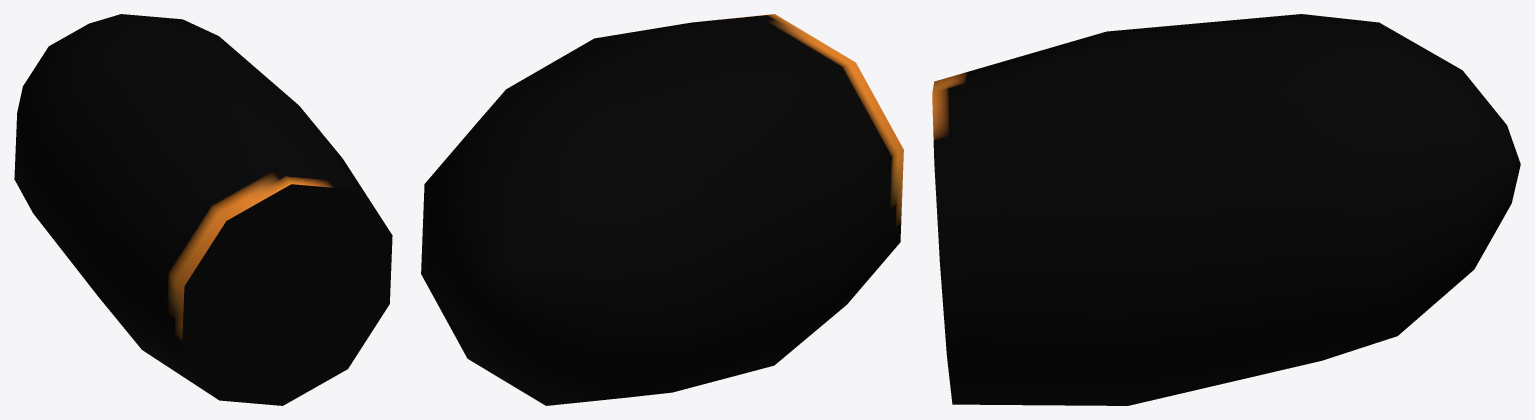
The model's file is Cassava_Half_01.fbx.
3 views of the same model, side by side, from view 1: azimuth 30°, elevation 25°; view 2: azimuth 150°, elevation 25°; view 3: azimuth 270°, elevation 25° (orthographic). The views are drawn at different scales.
Visible parts, largest first — view 1: Cassava_Half_01; view 2: Cassava_Half_01; view 3: Cassava_Half_01.
Part boxes in pixels (x1,y1,x2,y2): Cassava_Half_01: (14,14,392,405); Cassava_Half_01: (421,14,903,405); Cassava_Half_01: (932,14,1520,405).
Size of the model in its own units: 35.17 by 38.87 by 56.87.
